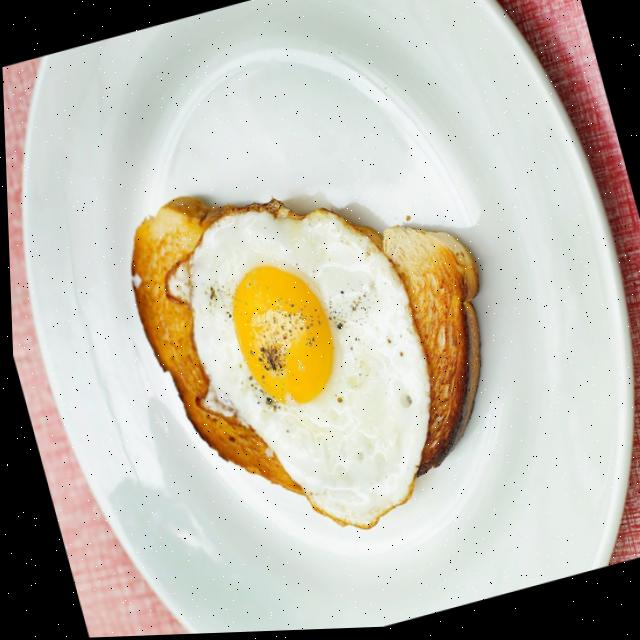Egg: (186, 206, 427, 529)
